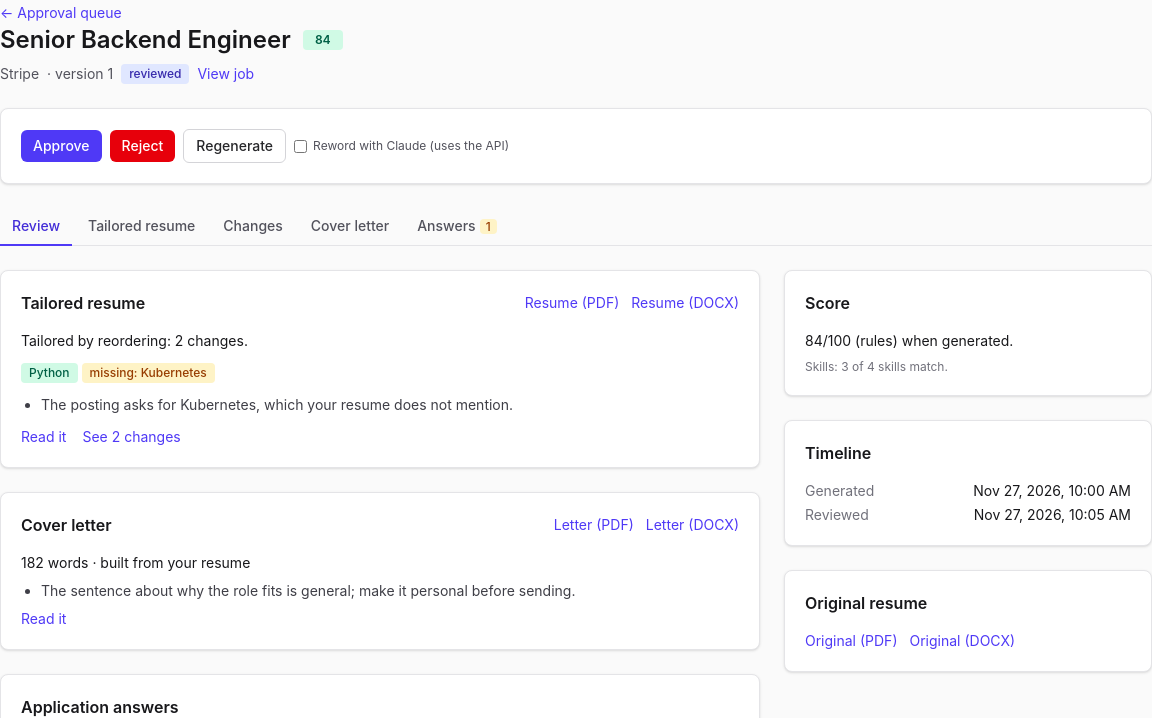
Test: PackageReview › needs a reason to reject and shows API errors
Step 1. Click the button "Reject" → (142, 146), box [110,130,175,162]
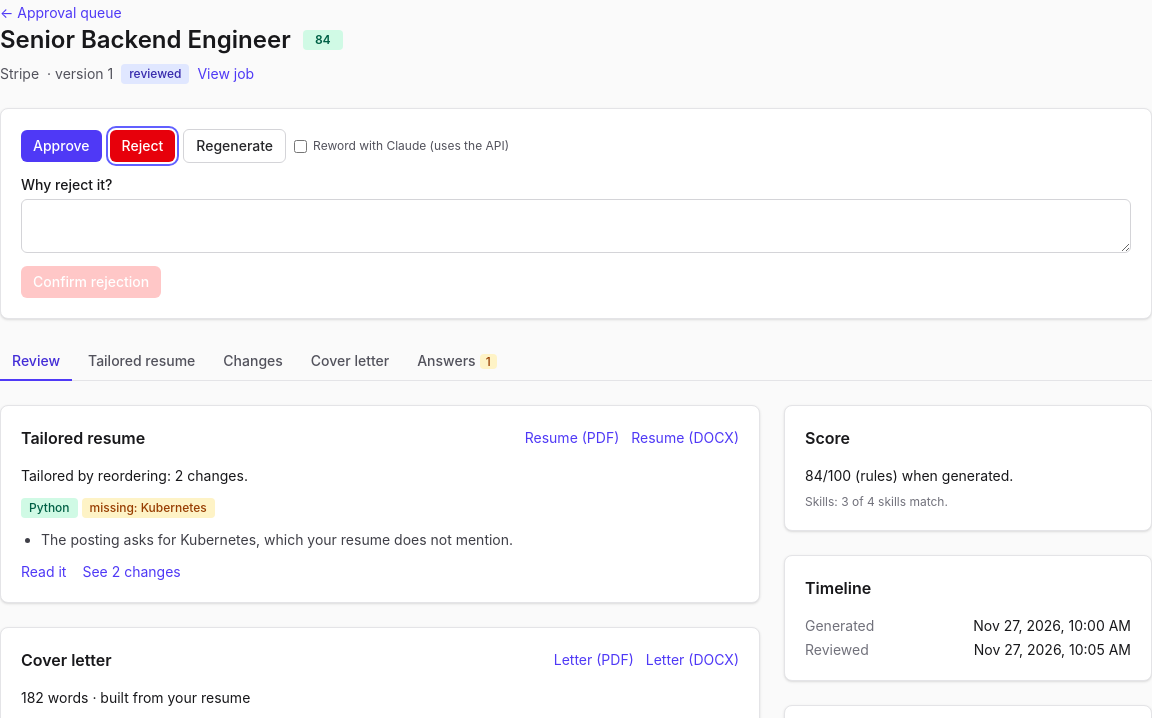
Expected: the button "Confirm rejection" is disabled, [21,266,161,298]
Step 2. Type "Letter too generic" into the text box labelled "Why reject it?" → (576, 226), box [21,199,1131,253]
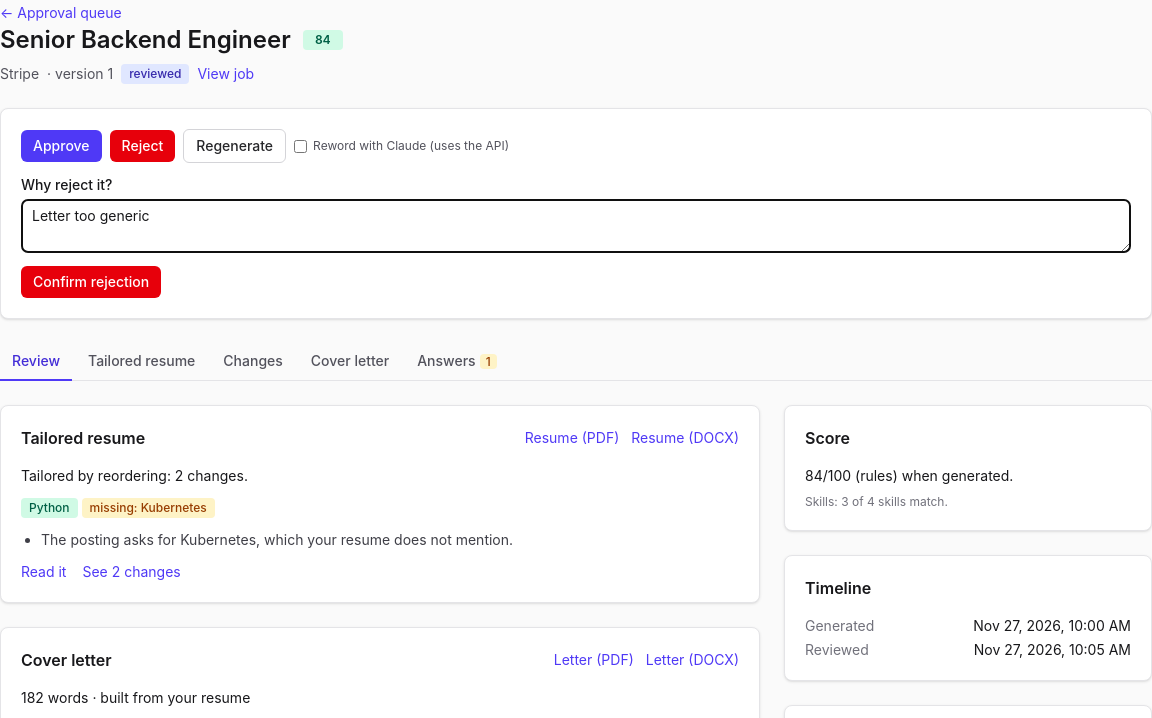
Step 3. Click the button "Confirm rejection" → (91, 282), box [21,266,161,298]
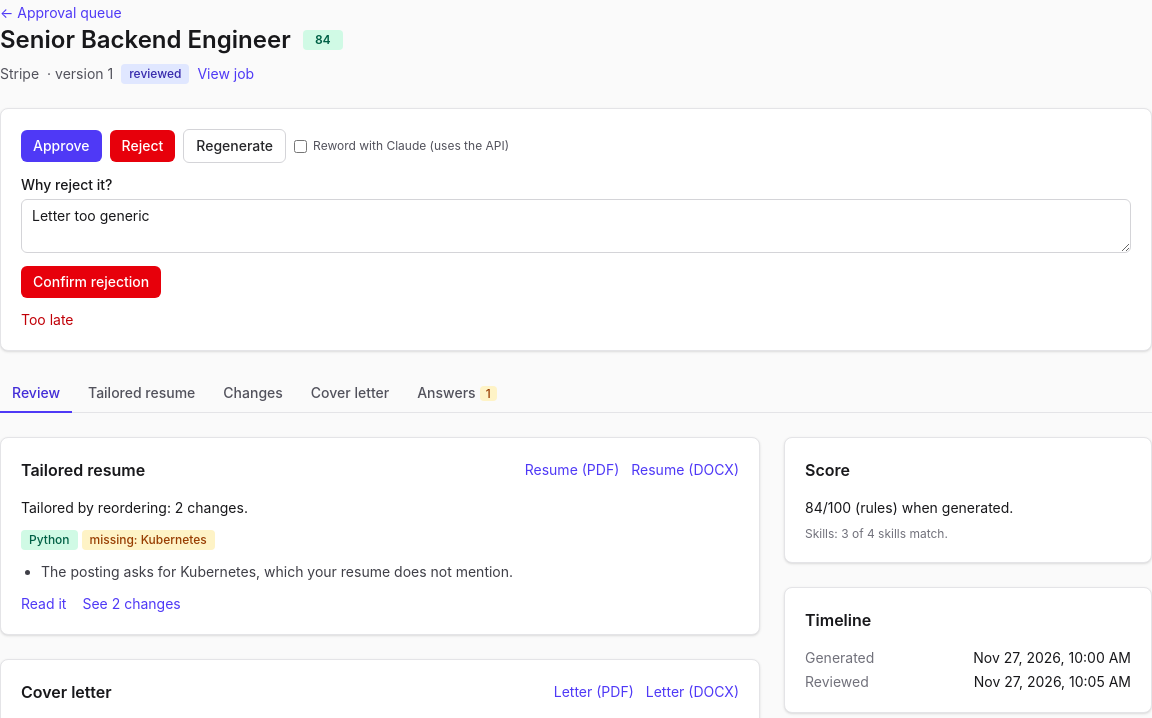
Expected: the message reads "Too late", [21,311,74,328]
